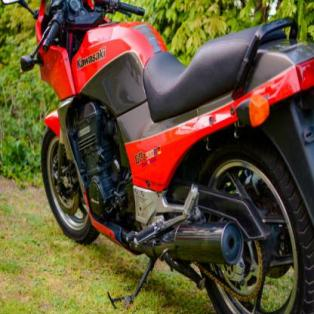Motocicleta: (1, 0, 314, 313)
